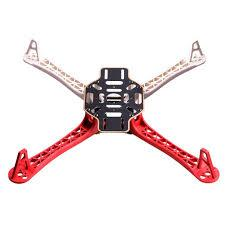drone: (8, 32, 221, 191)
